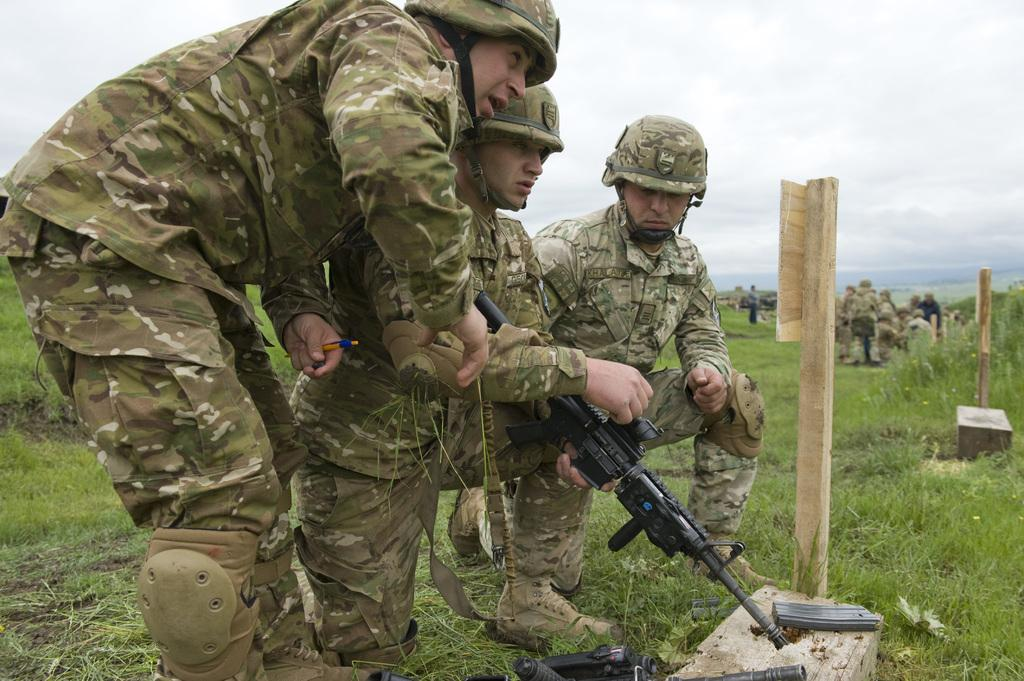Rifle: (483, 373, 820, 656)
